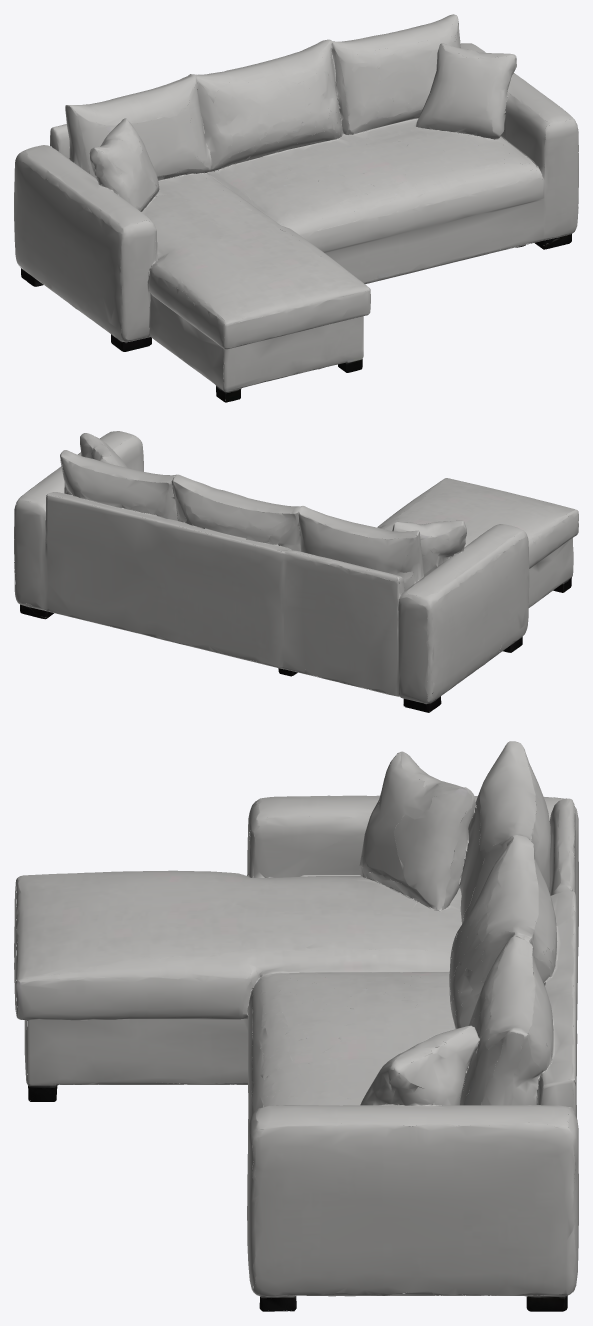
The model's file is lv_sofa.glb.
3 renders of one model, top to bottom at view 1: azimuth 30°, elevation 25°; view 2: azimuth 150°, elevation 25°; view 3: azimuth 270°, elevation 25°, orthographic. The views are drawn at different scales.
Parts seen in each view (by area): view 1: geometry_0; view 2: geometry_0; view 3: geometry_0.
Part boxes in pixels (<box>): geometry_0: <box>14,14,578,402</box>; geometry_0: <box>14,431,578,712</box>; geometry_0: <box>14,741,578,1311</box>.
Bounding box in the file's own units: 2.39 × 0.8787 × 1.69.
1 material, 1 textured.
